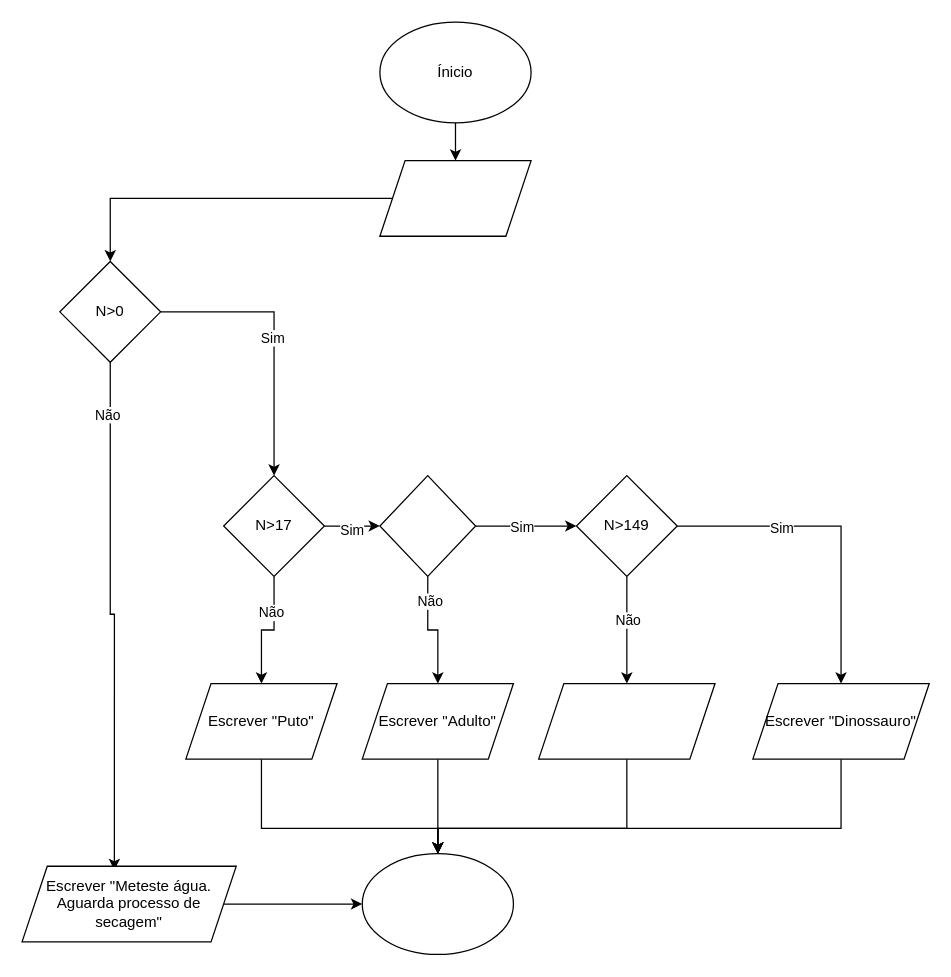
The diagram is 951 pixels wide and 977 high, and some of its shapes have lost their labels. The shapes that lost their labels are listed below. From the top down, each one's centre as x and y in pixels, then its label:
point 455,197: Ler N
point 427,525: N>65
point 626,720: Escrever "Velhinho"
point 437,903: Fim
